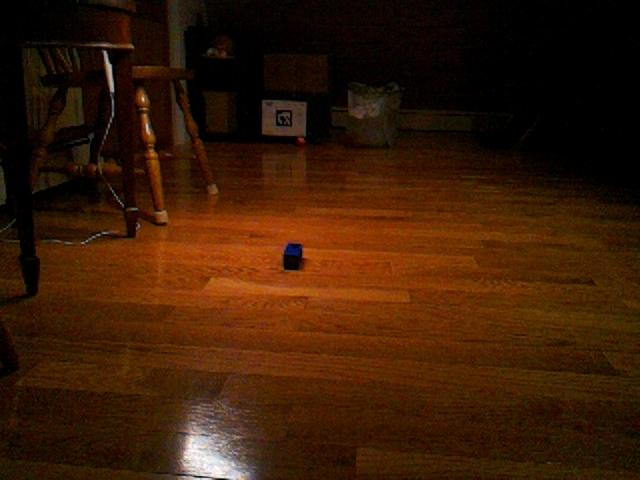blue: (282, 241, 304, 271)
